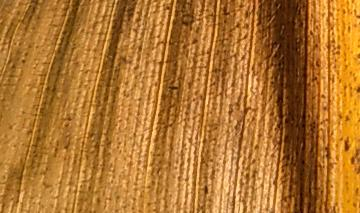tarspot: (179, 12, 196, 32), (349, 147, 360, 175), (343, 135, 352, 154), (181, 1, 194, 10), (323, 144, 331, 158), (221, 5, 230, 16), (181, 42, 191, 51), (234, 20, 243, 30), (167, 85, 178, 93), (203, 183, 210, 195), (60, 28, 69, 37), (190, 38, 199, 46), (9, 61, 17, 70), (314, 59, 321, 69), (346, 24, 352, 35), (66, 114, 74, 122), (268, 109, 275, 118), (310, 75, 319, 82), (297, 21, 304, 30), (62, 122, 72, 128), (313, 42, 320, 50), (164, 4, 171, 12), (355, 84, 360, 94), (268, 80, 275, 87), (19, 58, 27, 64), (308, 28, 314, 36), (320, 93, 326, 101), (322, 105, 328, 113), (355, 51, 360, 60), (354, 14, 360, 21), (300, 122, 306, 129), (300, 158, 305, 166), (277, 61, 282, 69), (350, 1, 355, 4)
